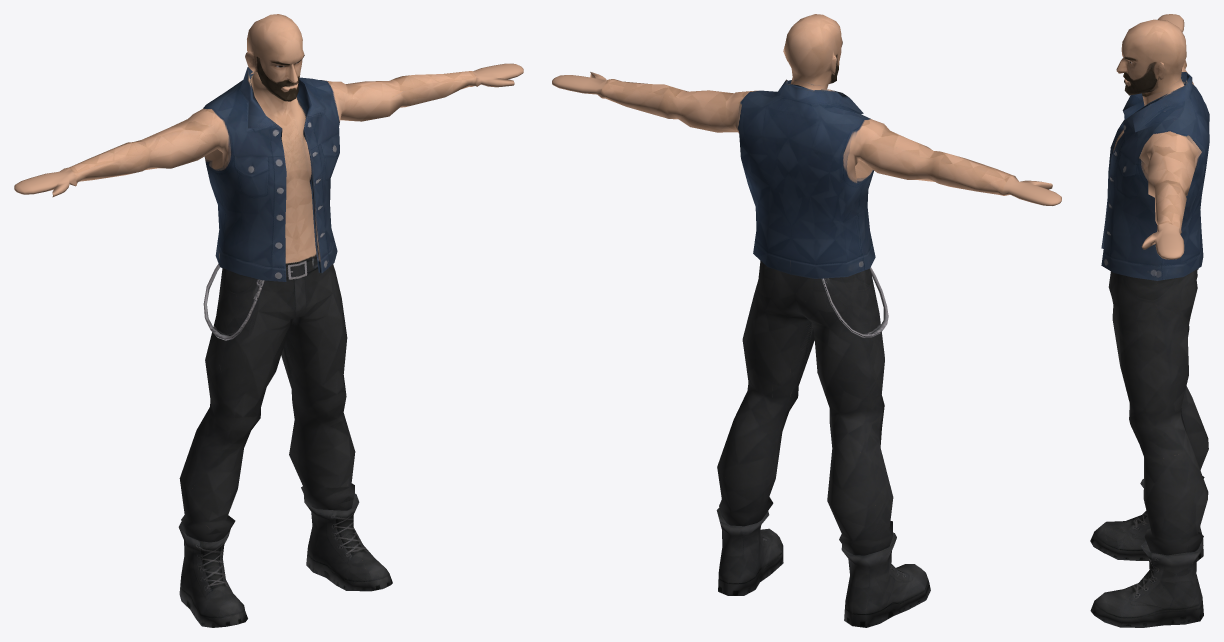
The model's file is thug_white_male_beard_mittens.glb.
The picture shows the model from 3 angles, left to right: view 1: azimuth 30°, elevation 25°; view 2: azimuth 150°, elevation 25°; view 3: azimuth 270°, elevation 25°; orthographic projection. The views are drawn at different scales.
Visible parts, largest first — view 1: Hostile_Beard; view 2: Hostile_Beard; view 3: Hostile_Beard.
Part boxes in pixels (x1,y1,x2,y2): Hostile_Beard: (14, 14, 523, 627); Hostile_Beard: (552, 14, 1061, 627); Hostile_Beard: (1090, 14, 1209, 627).
Size of the model in its own units: 1.66 by 1.8 by 0.3463.
2 materials, 1 textured.
